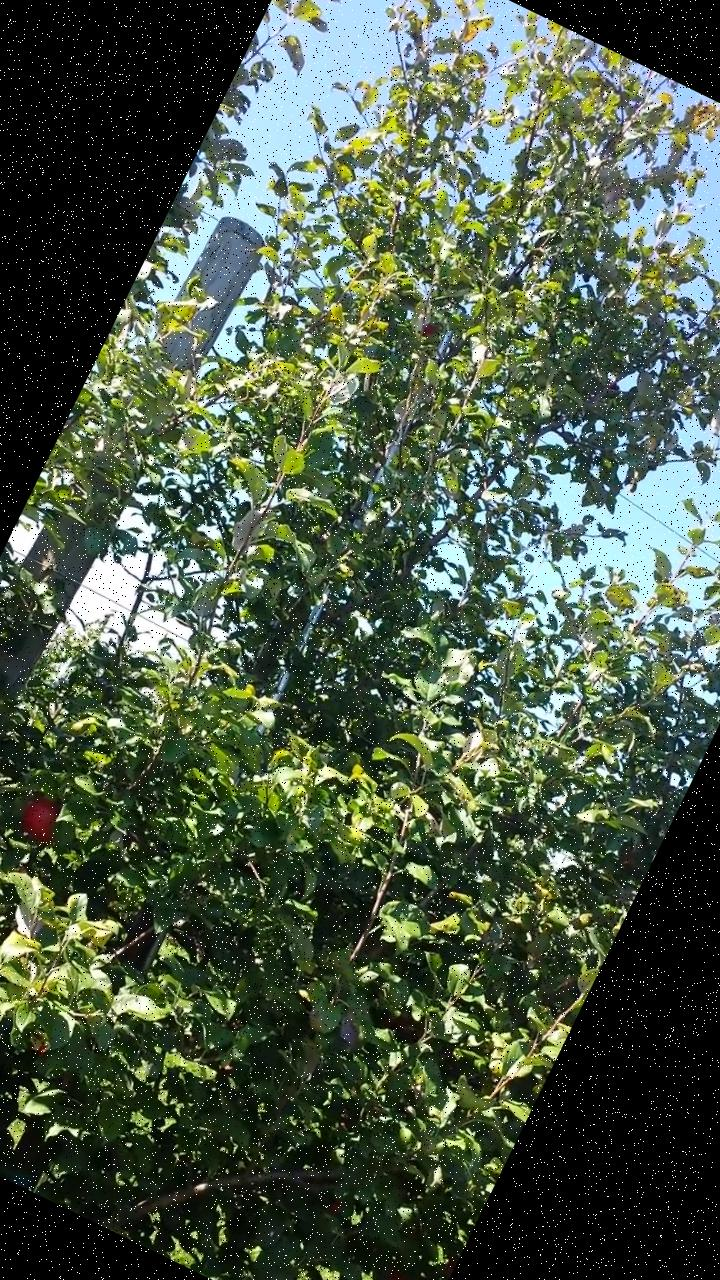Apple: (14, 790, 73, 850), (372, 1264, 422, 1279), (419, 320, 440, 342), (328, 1197, 346, 1218)
